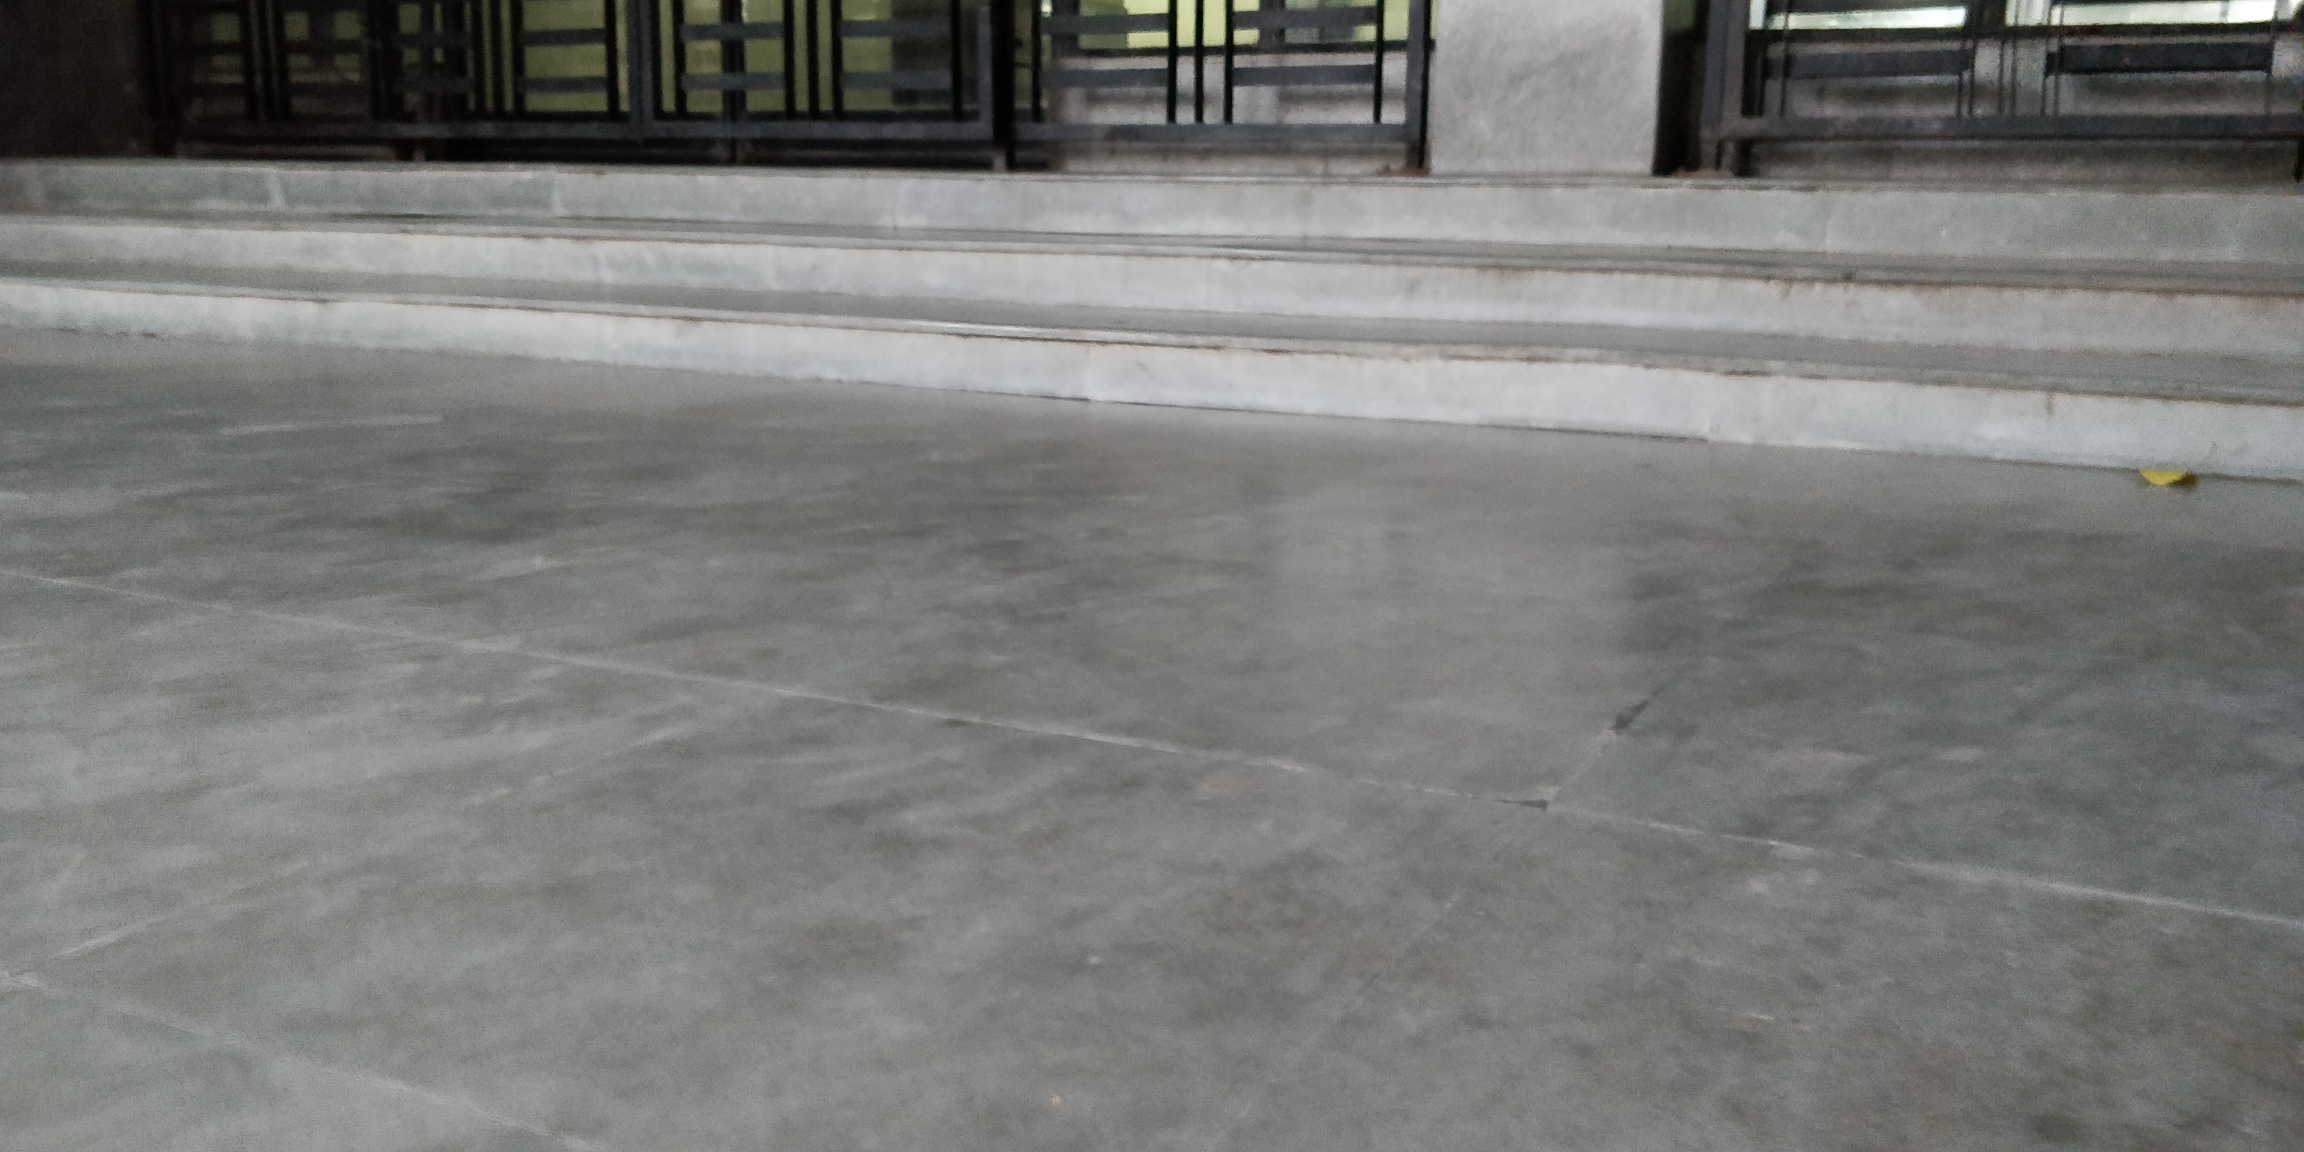stairs_up: (226, 168, 2289, 429)
